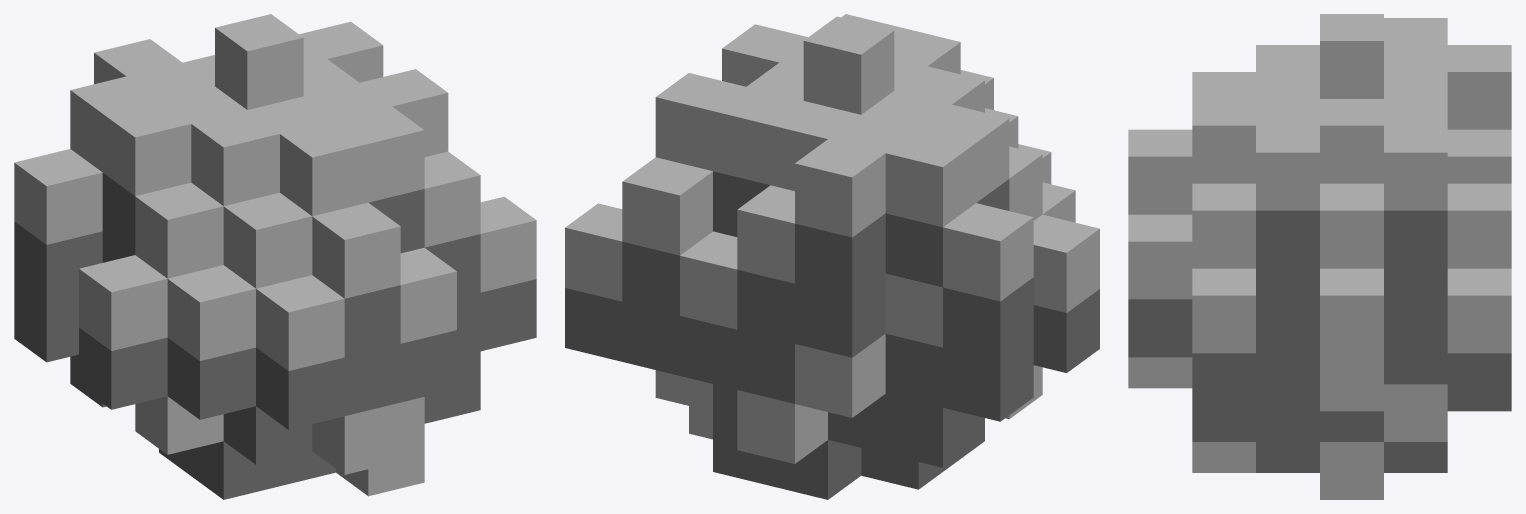
Rendered from scenery1_Rock_Snow.obj.
3 renders of one model, left to right at view 1: azimuth 30°, elevation 25°; view 2: azimuth 150°, elevation 25°; view 3: azimuth 270°, elevation 25°, orthographic. The views are drawn at different scales.
Size of the model in its own units: 0.7 by 0.7 by 0.6.
Materials: 1 (1 with a texture image).
